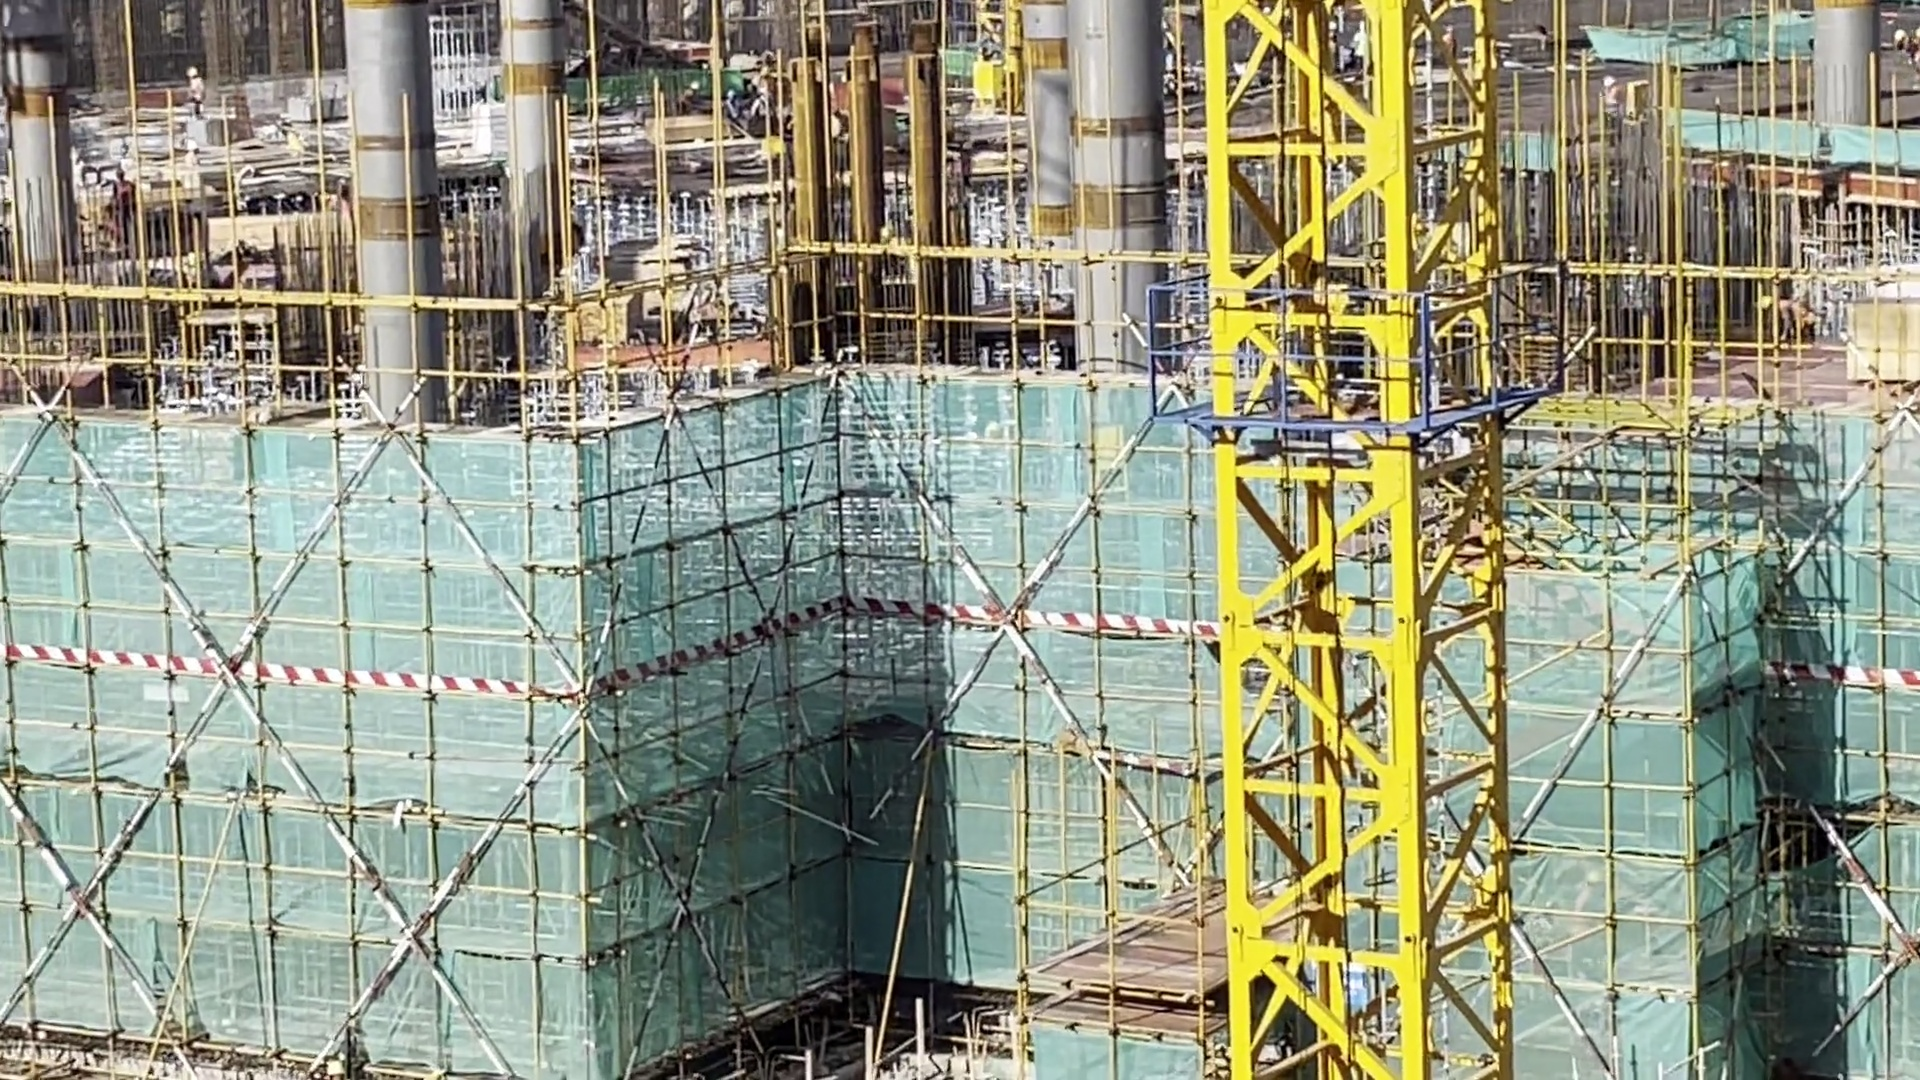ebox: (969, 58, 1004, 110)
person: (185, 64, 202, 116)
